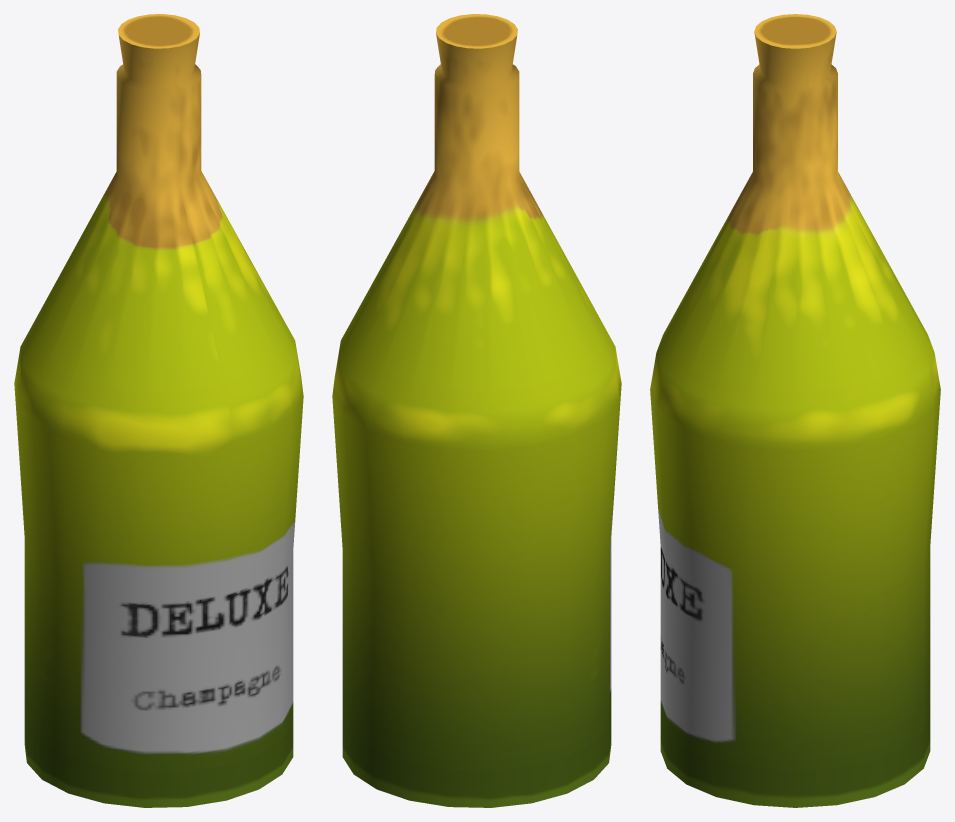
The model's file is fancy_shampagne.fbx.
The picture shows the model from 3 angles, left to right: view 1: azimuth 30°, elevation 25°; view 2: azimuth 150°, elevation 25°; view 3: azimuth 270°, elevation 25°; orthographic projection.
Parts seen in each view (by area): view 1: fancy_shampagne; view 2: fancy_shampagne; view 3: fancy_shampagne.
Part boxes in pixels (box(x1,y1,x2,y2)): fancy_shampagne: box(14, 14, 303, 807); fancy_shampagne: box(332, 14, 621, 807); fancy_shampagne: box(650, 14, 940, 807).
Bounding box in the file's own units: 9.82 × 26.81 × 9.82.
Materials: 1 (1 with a texture image).
